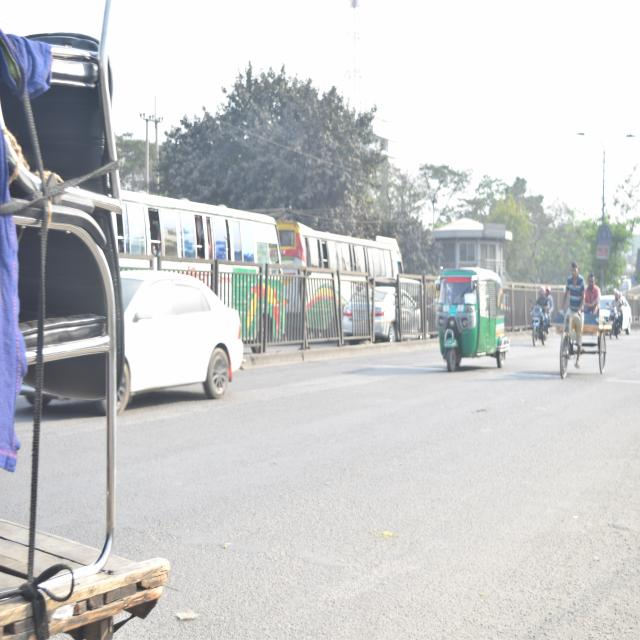bus: (111, 177, 288, 338), (277, 220, 408, 319)
car: (112, 270, 246, 418), (344, 284, 424, 342)
motorbike: (524, 293, 554, 354), (606, 295, 626, 346)
